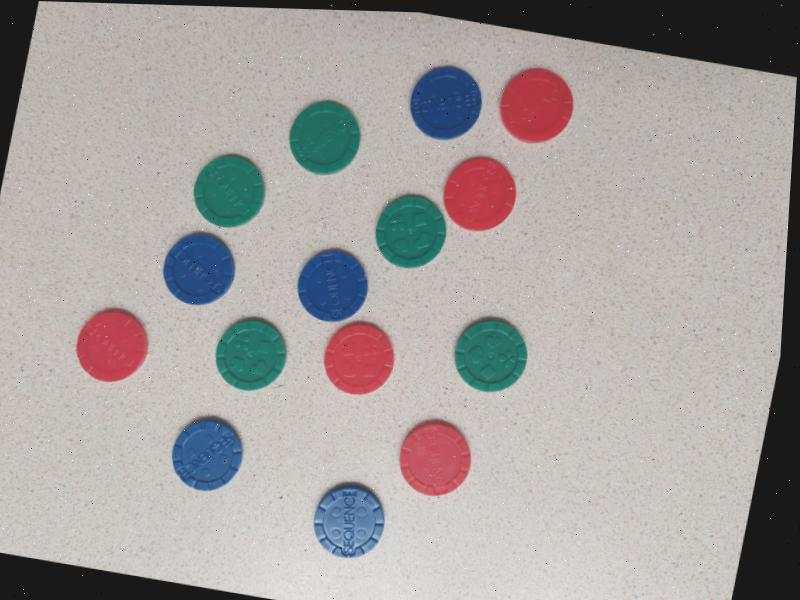Blue_Token: (394, 54, 498, 151), (159, 403, 254, 503), (148, 223, 245, 316), (300, 474, 394, 569), (286, 240, 376, 332)
Green_Token: (437, 307, 541, 403), (275, 92, 375, 184), (362, 186, 459, 279), (204, 308, 298, 402), (183, 145, 278, 236)
Red_Token: (423, 143, 530, 244), (486, 56, 586, 155), (311, 310, 407, 408), (386, 411, 483, 507), (65, 302, 160, 392)
